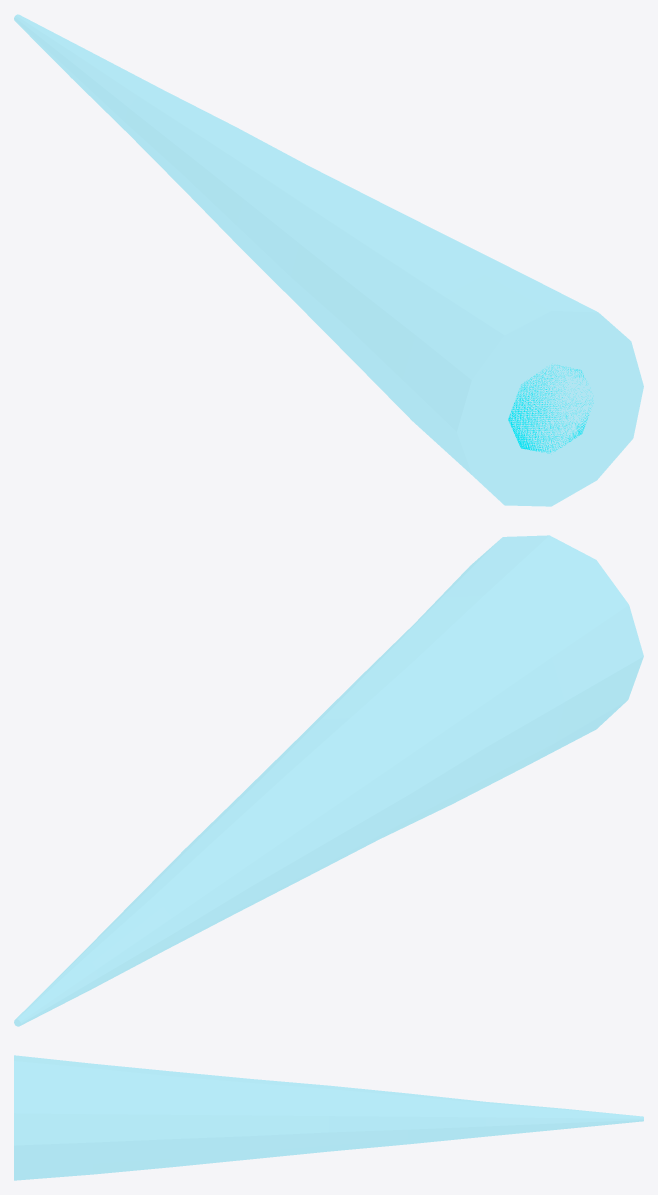
File: afterburner_core.glb
The picture shows the model from 3 angles, top to bottom: view 1: azimuth 30°, elevation 25°; view 2: azimuth 150°, elevation 25°; view 3: azimuth 270°, elevation 25°; orthographic projection. The views are drawn at different scales.
Visible parts, largest first — view 1: afterburner_core; view 2: afterburner_core; view 3: afterburner_core.
Part boxes in pixels (<box>): afterburner_core: <box>14,14,643,506</box>; afterburner_core: <box>14,535,643,1026</box>; afterburner_core: <box>14,1055,643,1180</box>.
Bounding box in the file's own units: 0.3236 × 0.3237 × 1.6.
